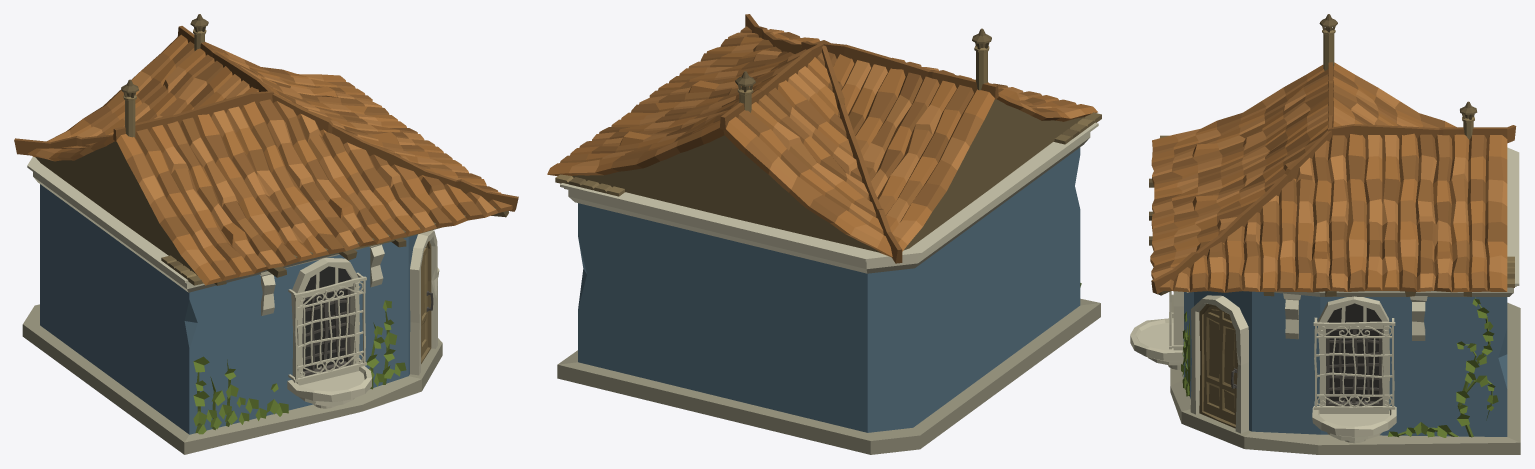
Rendered from Building_3.fbx.
3 renders of one model, left to right at view 1: azimuth 30°, elevation 25°; view 2: azimuth 150°, elevation 25°; view 3: azimuth 270°, elevation 25°, orthographic. The views are drawn at different scales.
Parts seen in each view (by area): view 1: Building_3; view 2: Building_3; view 3: Building_3.
Boxes of the visible parts, x1,y1,x2,y2 form: Building_3: [14, 14, 518, 454]; Building_3: [547, 14, 1101, 454]; Building_3: [1130, 14, 1520, 454].
Bounding box in the file's own units: 727 × 629 × 730.
